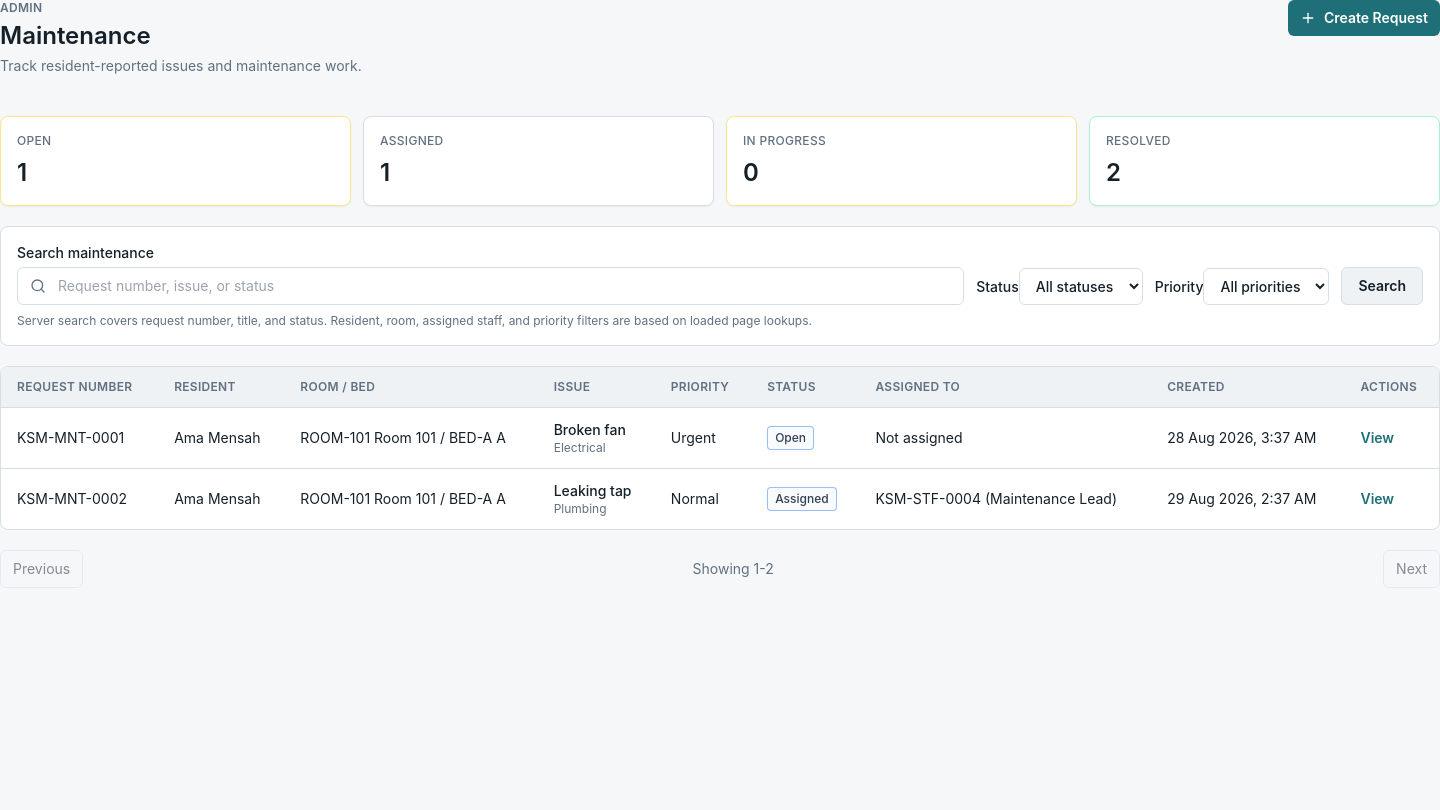
MaintenancePage › surfaces create failures
The width and height of the screenshot is (1440, 810).
Click the button "Create Request": (1364, 18) [1288,0,1439,36]
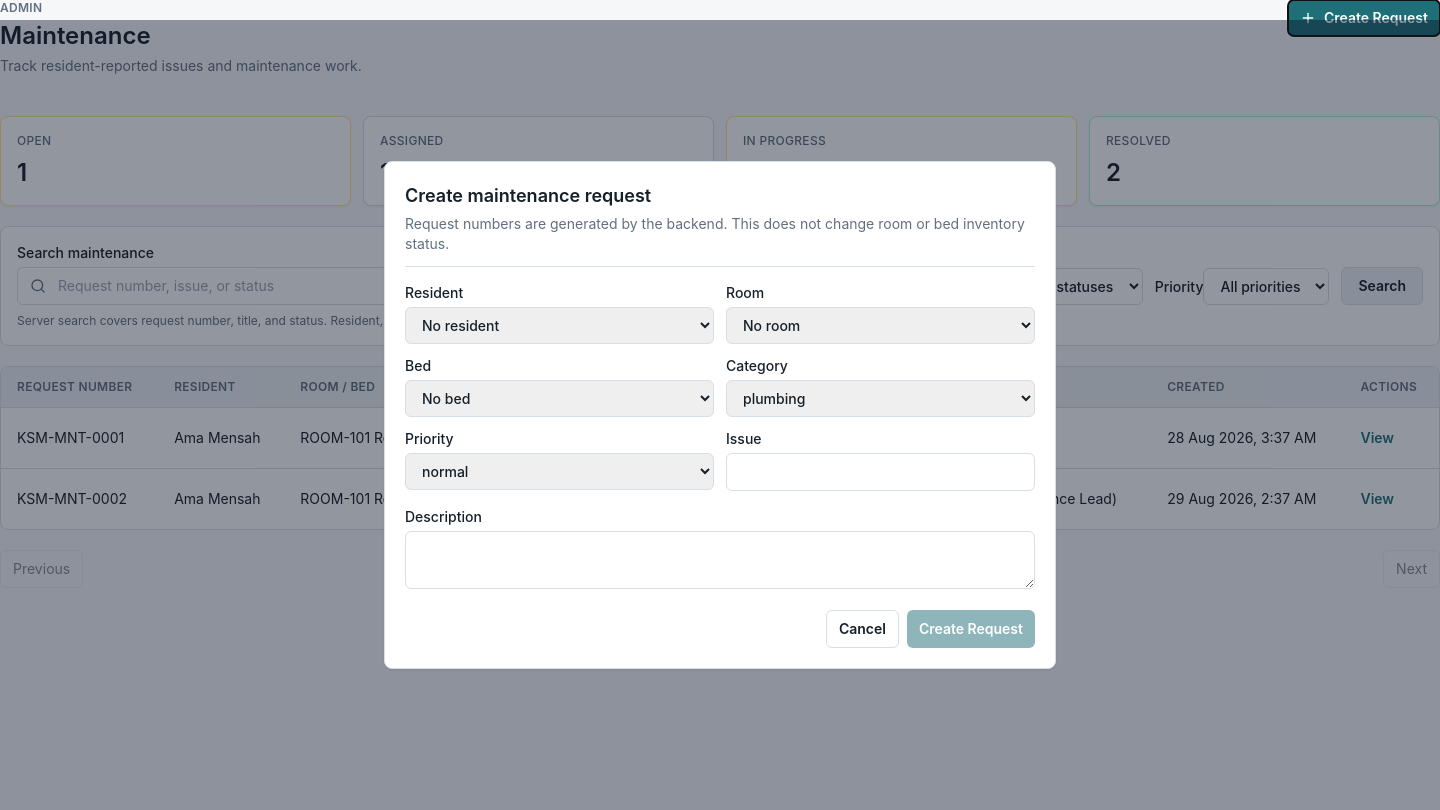
In the field named "Maintenance issue": (880, 472) [726,453,1035,491], type "Broken socket"
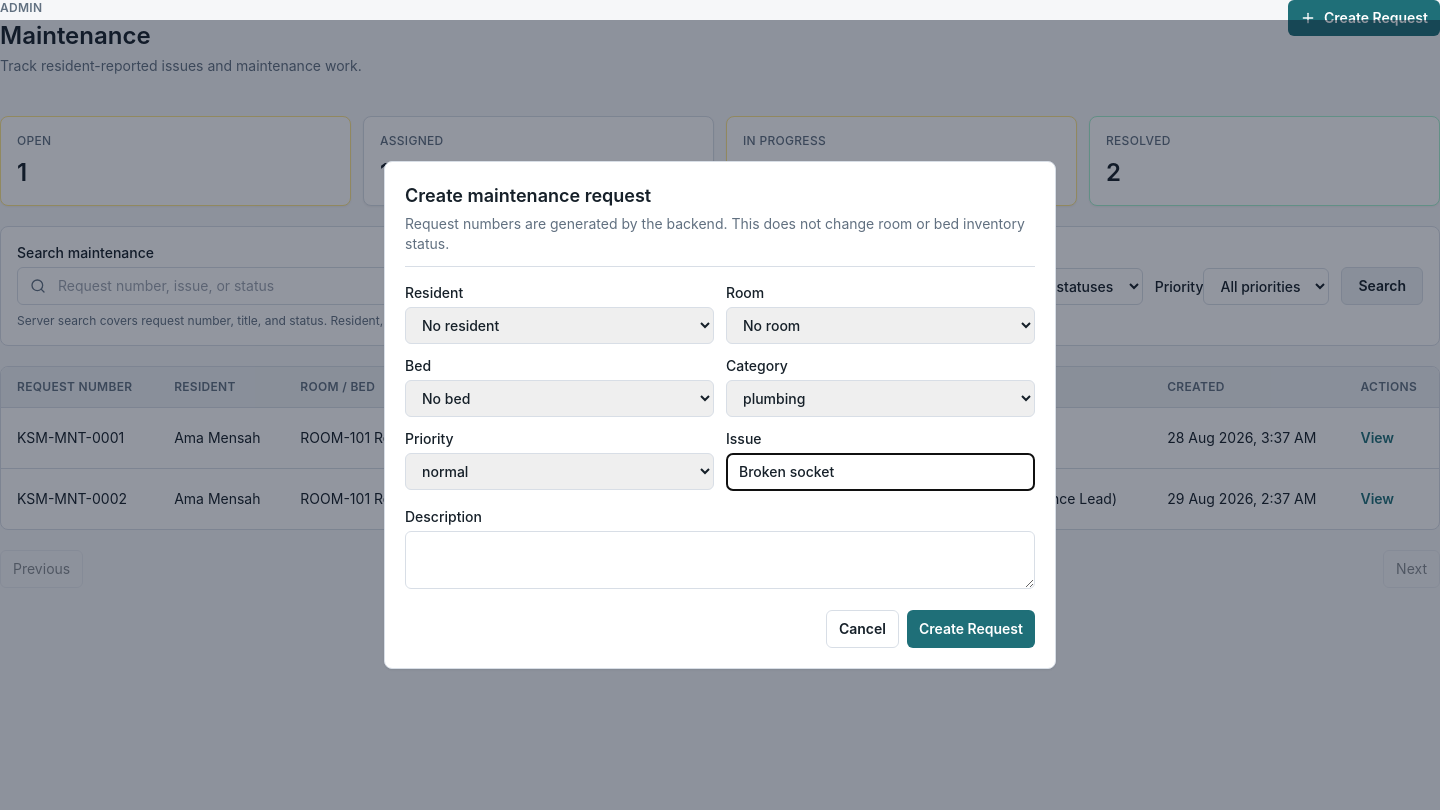
Click the button "Create Request" below "Category": (971, 629) [907,610,1035,648]
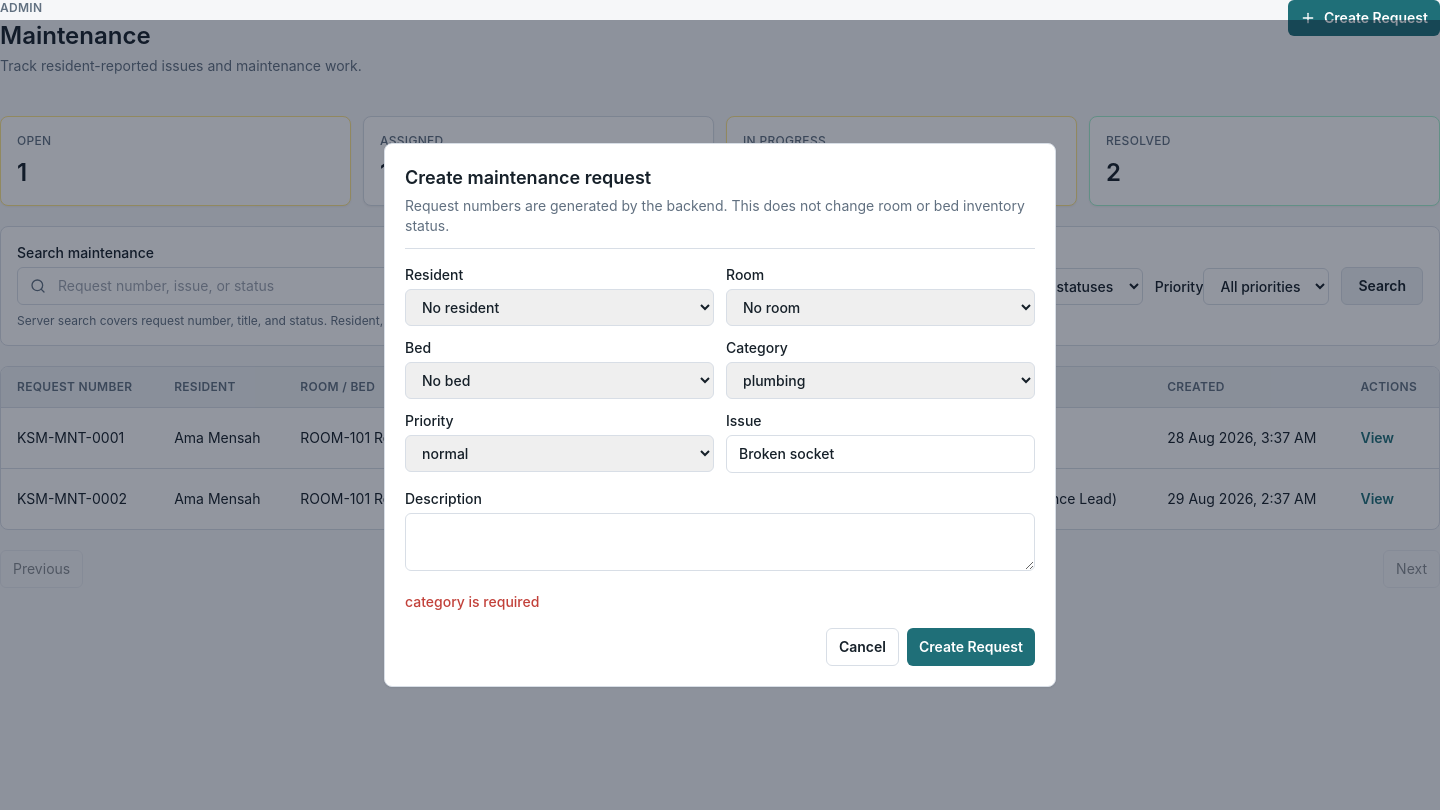
Now the message reads "category is required", box [405,593,539,610]
